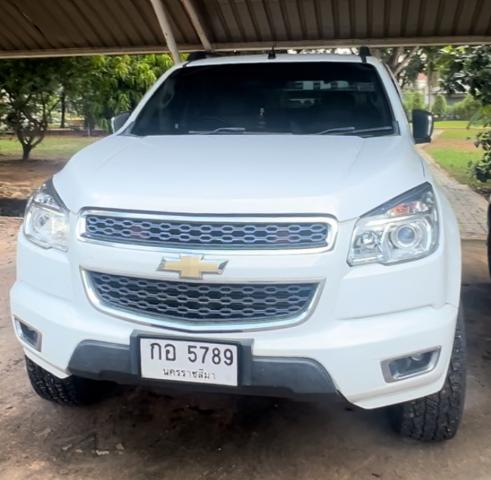pickup-truck: (11, 55, 472, 447)
